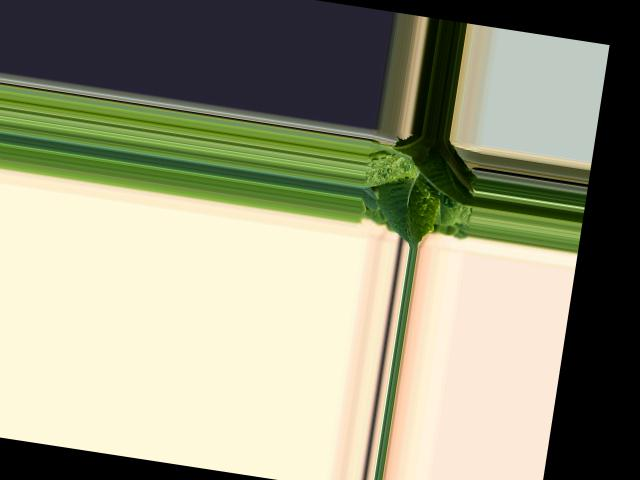lettuce: (367, 129, 480, 245)
